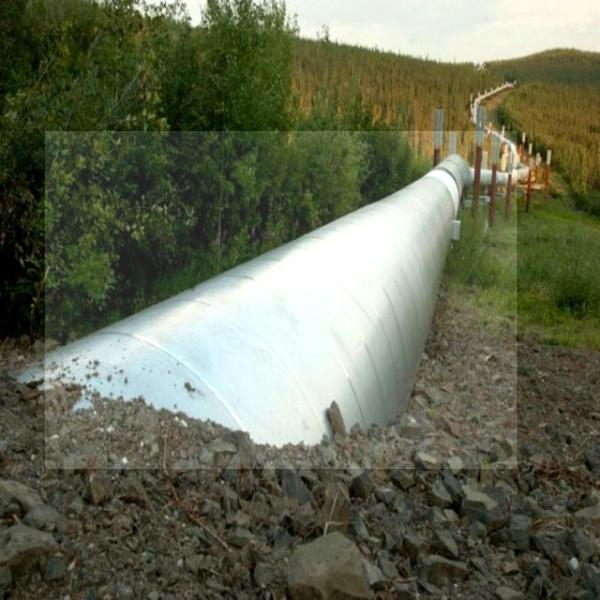no leak: (45, 131, 517, 469)
